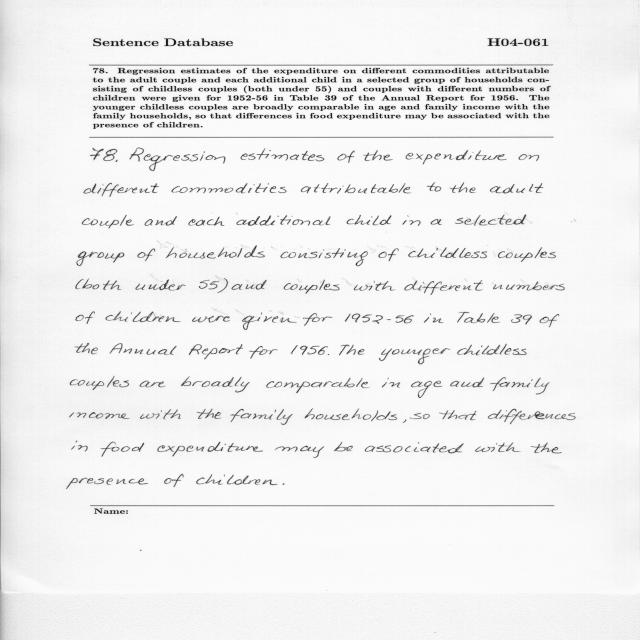word: (130, 148, 226, 171), (280, 248, 368, 266), (158, 442, 263, 457), (266, 378, 370, 393), (406, 150, 507, 165), (488, 409, 576, 424), (166, 246, 265, 259), (301, 183, 411, 194), (305, 409, 397, 422), (404, 280, 483, 295), (172, 183, 287, 193), (379, 348, 450, 364), (181, 377, 250, 393), (241, 149, 325, 162), (365, 443, 464, 454), (84, 183, 159, 197), (237, 215, 331, 226), (230, 409, 293, 425), (491, 378, 550, 395), (242, 312, 297, 330), (196, 474, 278, 485), (67, 478, 148, 489), (498, 247, 556, 262), (408, 248, 487, 259), (284, 279, 340, 294), (70, 376, 129, 390), (189, 344, 243, 359), (110, 343, 177, 355), (455, 215, 526, 226), (457, 344, 527, 355), (105, 312, 181, 322), (345, 313, 413, 324), (77, 251, 124, 266), (82, 215, 134, 228), (493, 282, 565, 291), (101, 442, 144, 457), (275, 446, 324, 458), (490, 183, 543, 194), (136, 280, 186, 291), (411, 381, 442, 398), (457, 312, 500, 323), (347, 215, 392, 225), (82, 279, 121, 290), (354, 281, 396, 291), (70, 412, 130, 419), (140, 409, 181, 419), (475, 443, 520, 452), (303, 313, 332, 326), (249, 346, 278, 359), (291, 345, 328, 355), (439, 410, 476, 420), (91, 148, 118, 161), (232, 280, 267, 290), (451, 378, 485, 388), (188, 217, 225, 226), (363, 150, 393, 161), (144, 216, 177, 226), (531, 443, 561, 453), (192, 316, 230, 323), (450, 183, 476, 193), (379, 249, 399, 262), (164, 474, 184, 487), (75, 343, 98, 354), (339, 345, 364, 355), (76, 311, 95, 324), (540, 314, 559, 327), (197, 409, 221, 419), (337, 150, 355, 163), (511, 314, 532, 325), (138, 249, 156, 261), (424, 313, 444, 323), (403, 215, 421, 226), (140, 381, 166, 388), (199, 280, 219, 289), (382, 378, 400, 388), (334, 442, 353, 451), (72, 441, 88, 451), (217, 279, 228, 293), (519, 154, 539, 161), (427, 183, 441, 192), (410, 413, 430, 419), (76, 279, 84, 289), (431, 219, 442, 225), (403, 419, 406, 423), (116, 160, 118, 162), (283, 483, 285, 485), (328, 354, 329, 355)
